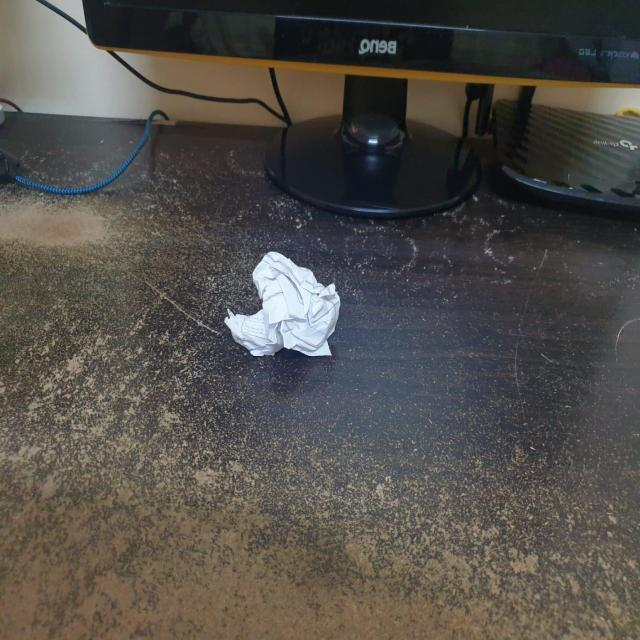kertas: (218, 248, 336, 370)
